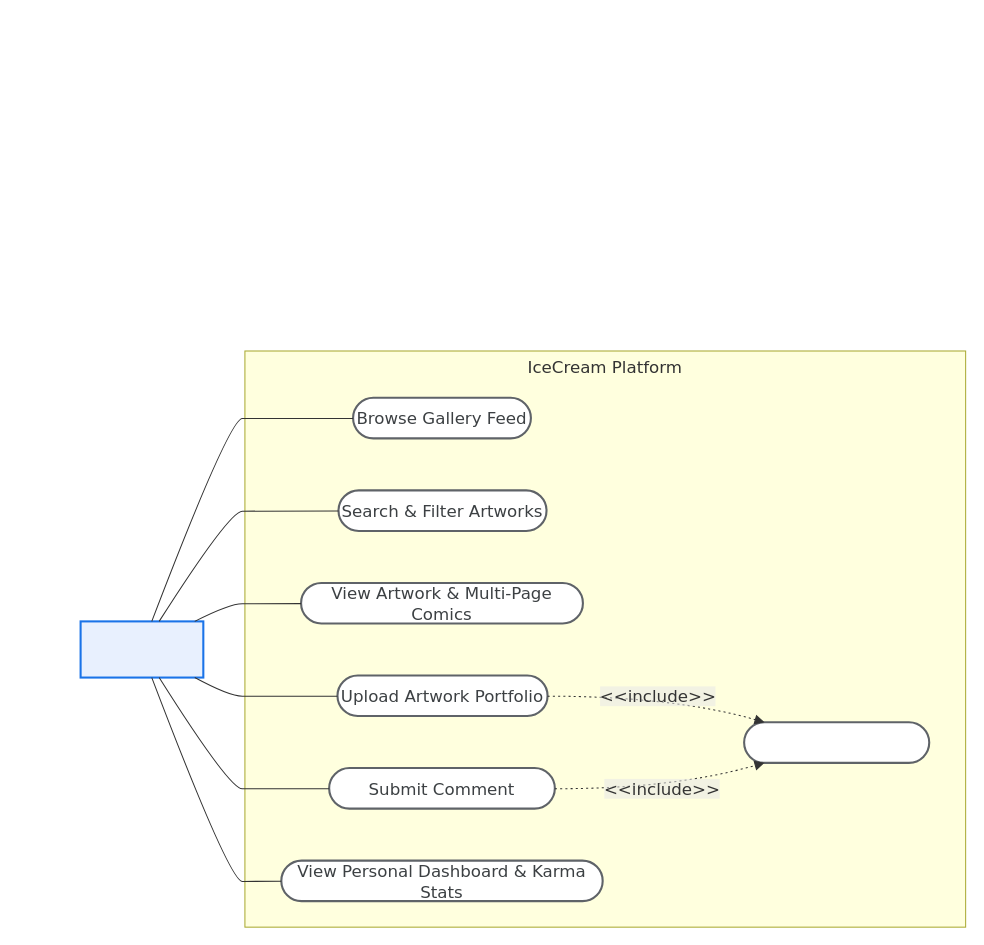
Image size: 984x945. Some labels were removed from this diagram. The shapes that lost their labels are listed below. From the top down, each one's centre as x and y in pixels, then its label:
[141,649]: 👤 User
[836,742]: Authenticate / Log In
